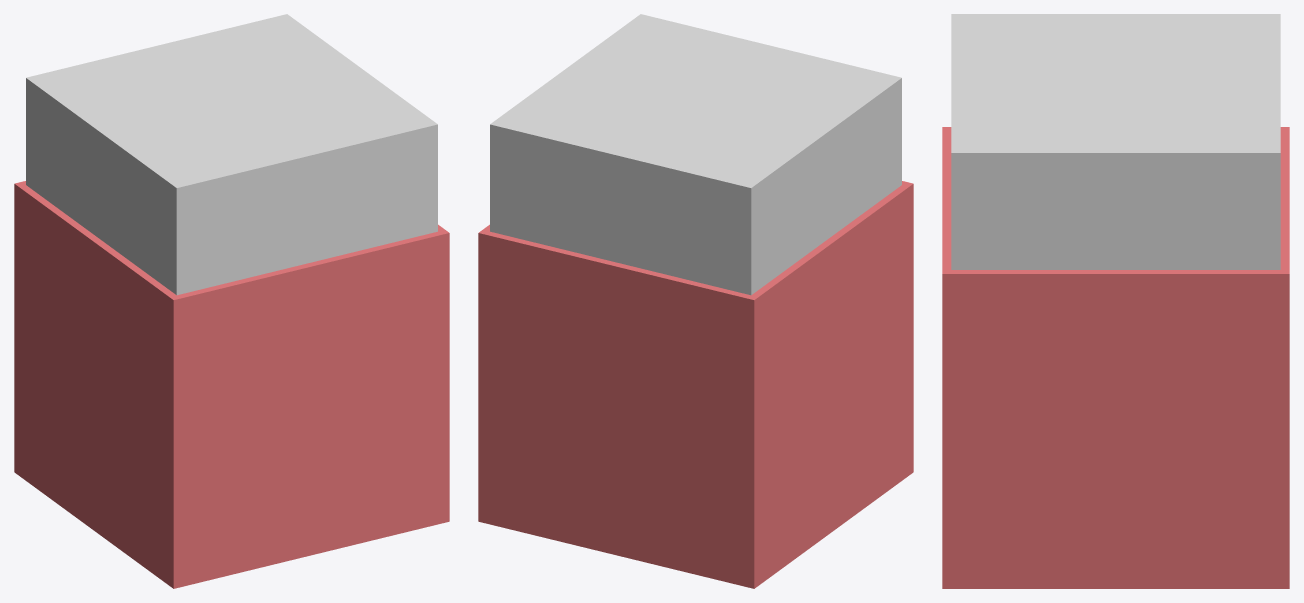
Rendered from display_kaca_pendek.fbx.
3 renders of one model, left to right at view 1: azimuth 30°, elevation 25°; view 2: azimuth 150°, elevation 25°; view 3: azimuth 270°, elevation 25°, orthographic. The views are drawn at different scales.
Parts seen in each view (by area): view 1: display_kaca_pendek; view 2: display_kaca_pendek; view 3: display_kaca_pendek.
Part boxes in pixels (bbox=[...]): display_kaca_pendek: bbox=[14, 14, 449, 588]; display_kaca_pendek: bbox=[478, 14, 913, 588]; display_kaca_pendek: bbox=[942, 14, 1289, 588].
Bounding box in the file's own units: 50 × 68.56 × 50.
2 materials, 1 textured.
